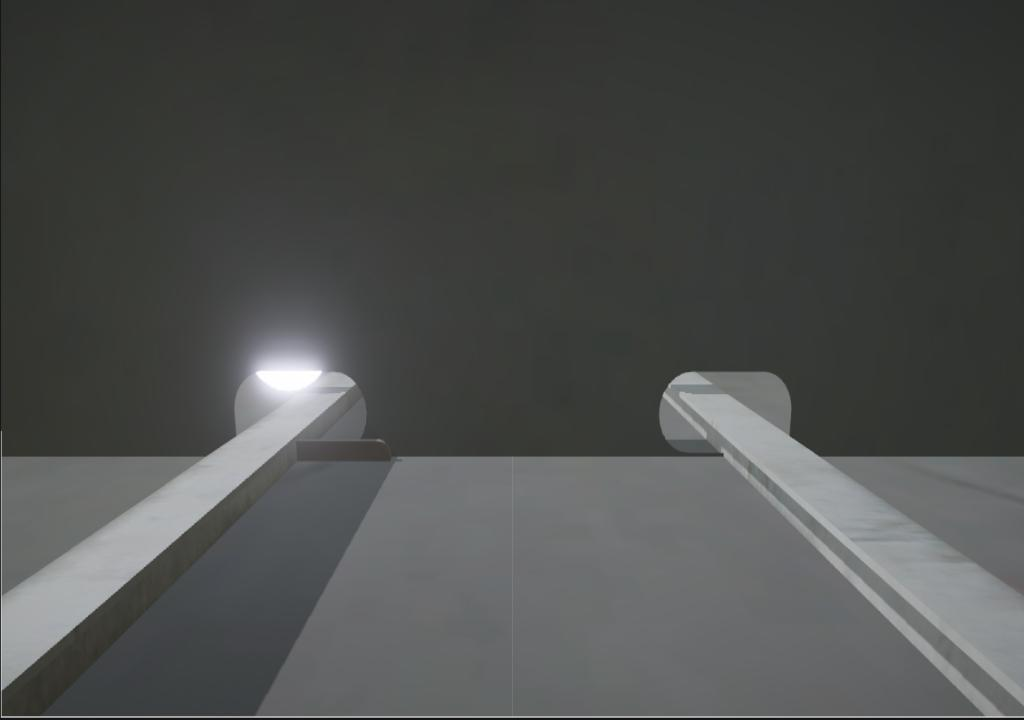fillet_yong_jeop_jang: (391, 451, 725, 462)
plate_CP05: (296, 438, 392, 462)
